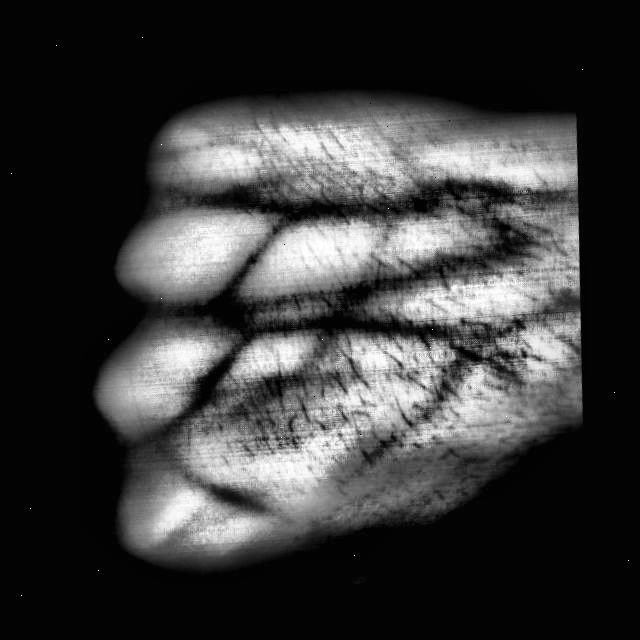Vein: (279, 254, 465, 306), (269, 315, 456, 341)
